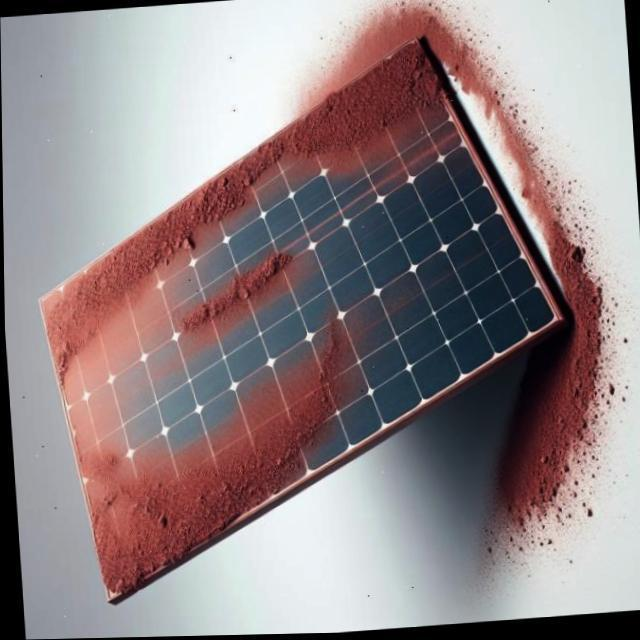Anomaly Solar Panel: (4, 38, 595, 626)
Surface Contaminant: (10, 36, 460, 392), (42, 302, 406, 597), (161, 233, 318, 369)
